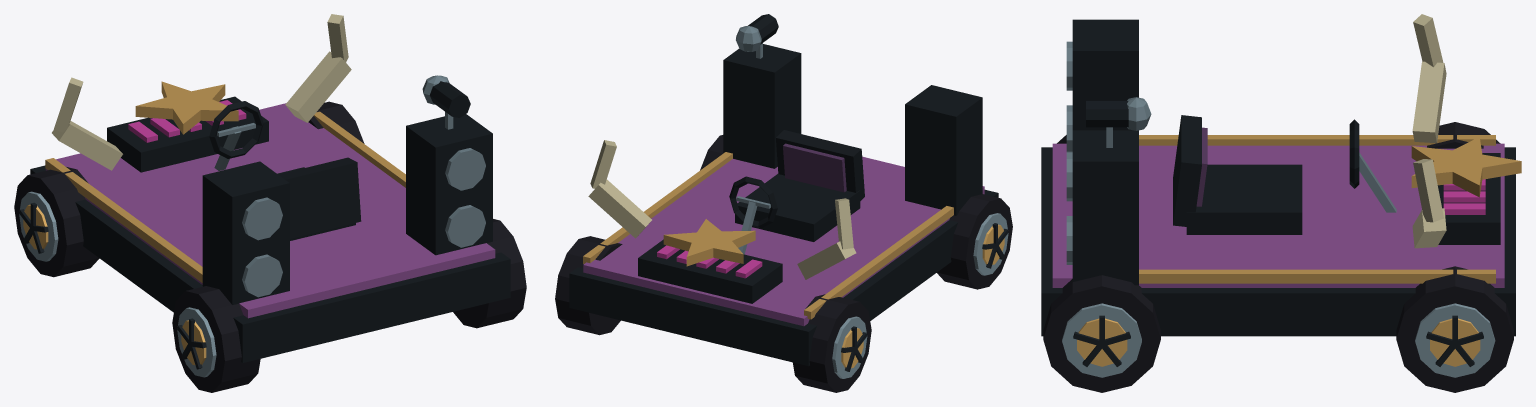
File: kart.glb
The picture shows the model from 3 angles, left to right: view 1: azimuth 30°, elevation 25°; view 2: azimuth 150°, elevation 25°; view 3: azimuth 270°, elevation 25°; orthographic projection. The views are drawn at different scales.
Visible parts, largest first — view 1: identity-stage-stage-platform-and-pa-towers, identity-stage-driver-cockpit, wheel-rear-left, wheel-front-left, identity-stage-motif-horns, identity-stage-motif-star, wheel-rear-right, identity-stage-motif-microphone, wheel-front-right; view 2: identity-stage-stage-platform-and-pa-towers, identity-stage-driver-cockpit, wheel-front-left, wheel-rear-left, identity-stage-motif-horns, wheel-front-right, identity-stage-motif-star, identity-stage-motif-microphone; view 3: identity-stage-stage-platform-and-pa-towers, identity-stage-driver-cockpit, wheel-front-right, wheel-rear-right, identity-stage-motif-horns, identity-stage-motif-star, identity-stage-motif-microphone, wheel-front-left.
Boxes of the visible parts, x1=… form: identity-stage-stage-platform-and-pa-towers: x1=30, y1=96, x2=510, y2=362; identity-stage-driver-cockpit: x1=209, y1=101, x2=361, y2=240; wheel-rear-left: x1=172, y1=286, x2=260, y2=392; wheel-front-left: x1=14, y1=167, x2=99, y2=277; identity-stage-motif-horns: x1=52, y1=14, x2=351, y2=170; identity-stage-motif-star: x1=135, y1=81, x2=238, y2=134; wheel-rear-right: x1=453, y1=219, x2=526, y2=328; identity-stage-motif-microphone: x1=422, y1=75, x2=470, y2=129; wheel-front-right: x1=308, y1=101, x2=364, y2=143; identity-stage-stage-platform-and-pa-towers: x1=569, y1=44, x2=998, y2=366; identity-stage-driver-cockpit: x1=729, y1=130, x2=864, y2=254; wheel-front-left: x1=792, y1=294, x2=871, y2=392; wheel-rear-left: x1=937, y1=194, x2=1012, y2=289; identity-stage-motif-horns: x1=588, y1=140, x2=856, y2=279; wheel-front-right: x1=555, y1=236, x2=622, y2=335; identity-stage-motif-star: x1=663, y1=219, x2=755, y2=266; identity-stage-motif-microphone: x1=736, y1=14, x2=778, y2=58; identity-stage-stage-platform-and-pa-towers: x1=1041, y1=19, x2=1515, y2=336; identity-stage-driver-cockpit: x1=1173, y1=115, x2=1396, y2=234; wheel-front-right: x1=1396, y1=266, x2=1513, y2=392; wheel-rear-right: x1=1043, y1=275, x2=1160, y2=392; identity-stage-motif-horns: x1=1412, y1=14, x2=1446, y2=248; identity-stage-motif-star: x1=1411, y1=137, x2=1521, y2=197; identity-stage-motif-microphone: x1=1086, y1=97, x2=1151, y2=147; wheel-front-left: x1=1427, y1=122, x2=1500, y2=148.
Size of the model in its own units: 2.16 by 1.57 by 2.53.
